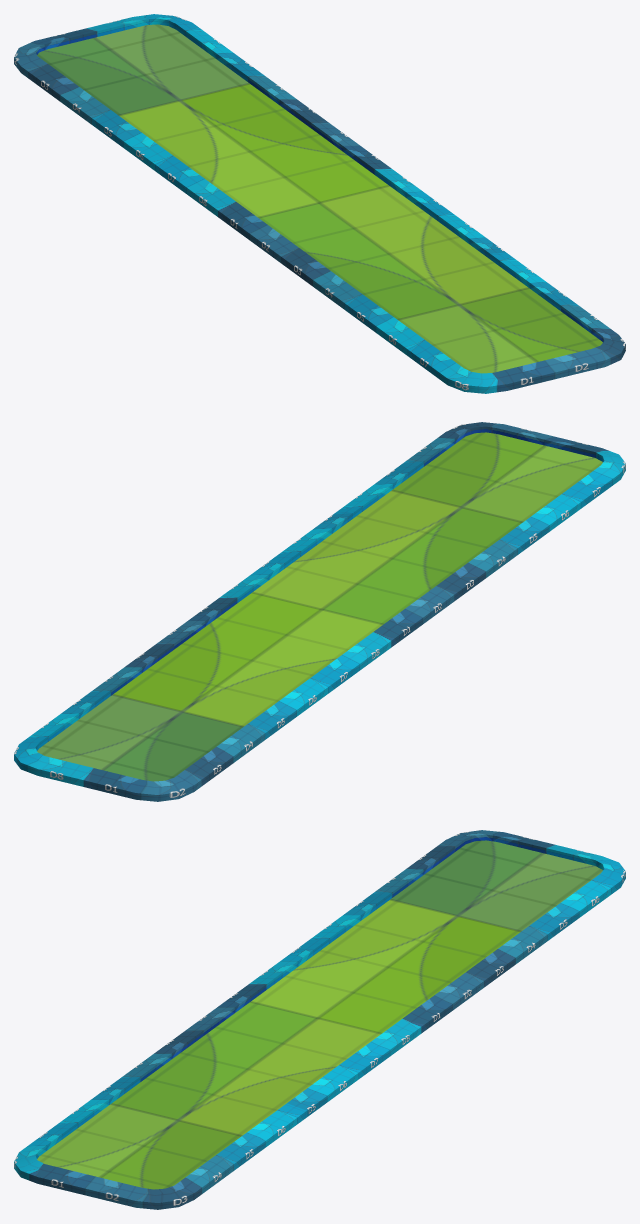
Rendered from GrassBorder6.fbx.
The picture shows the model from 3 angles, top to bottom: view 1: azimuth 30°, elevation 25°; view 2: azimuth 150°, elevation 25°; view 3: azimuth 330°, elevation 25°; orthographic projection.
Parts seen in each view (by area): view 1: Loft005; view 2: Loft005; view 3: Loft005.
Boxes of the visible parts, x1,y1,x2,y2 form: Loft005: (14, 14, 625, 393); Loft005: (14, 422, 625, 801); Loft005: (14, 830, 625, 1209).
Bounding box in the file's own units: 6.08 × 0.3789 × 28.54.
1 material, 1 textured.
